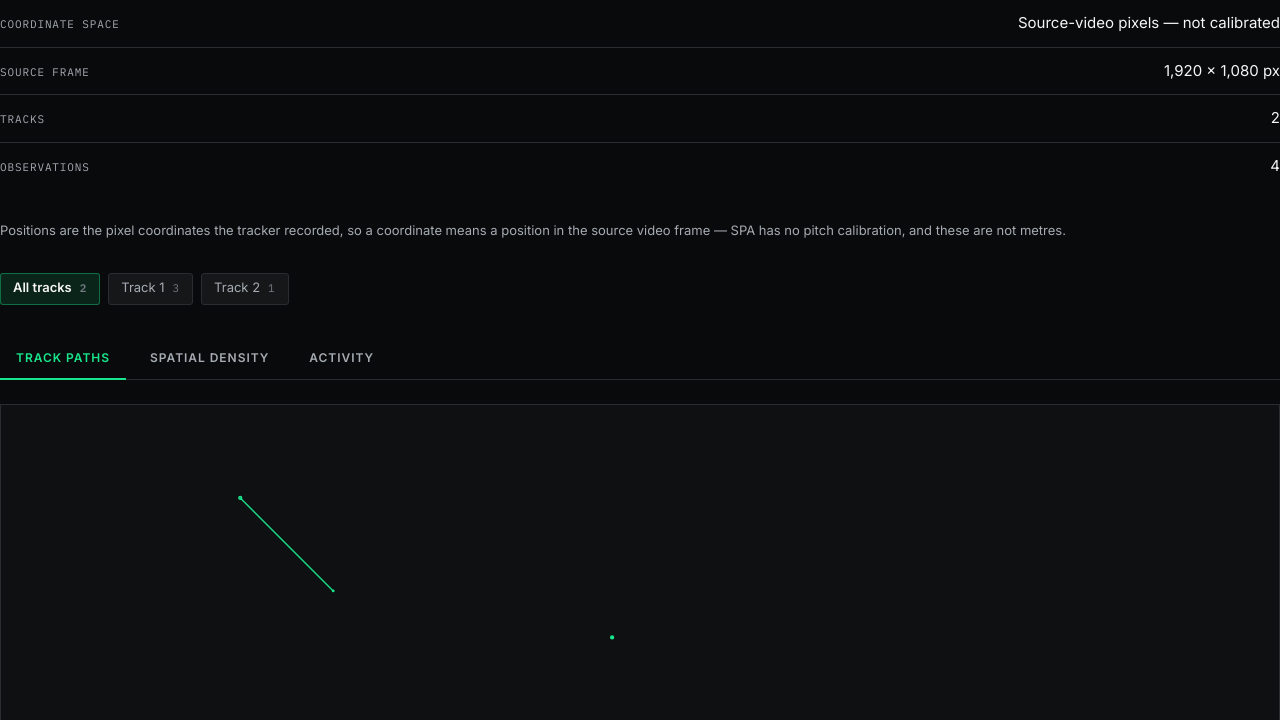
it: AnalysisVisualizationPanel › shows the activity timeline as observation counts
The image size is (1280, 720).
What coordinates should you click on to do the following:
click the tab "Activity"
I would click on:
 (342, 358)
Its box is [293, 336, 390, 378].
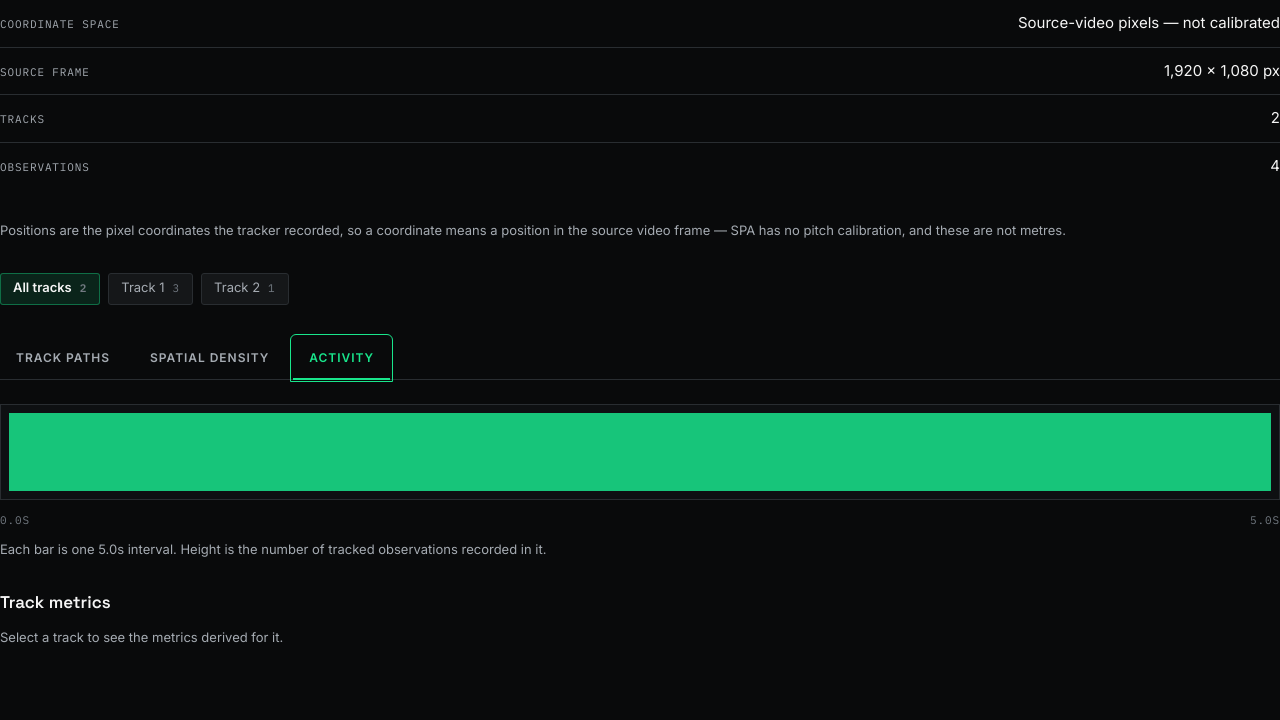
Check: the list item named "0.0s to 5.0s: 4 observations" is shown, box [9, 412, 1271, 490]
